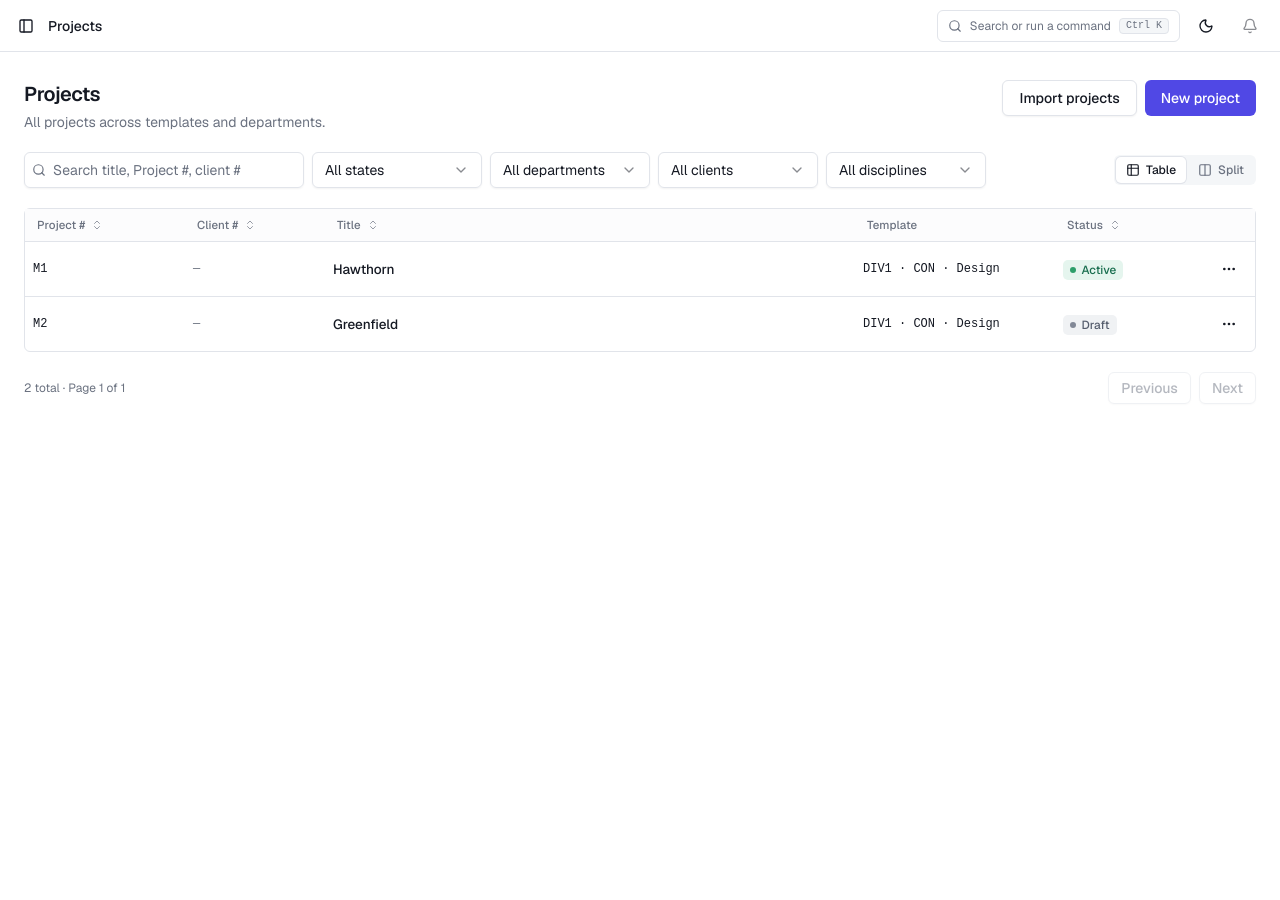
Test: ProjectsListPage › Split layout shows peek panel for the selected project
Expected: the text "Hawthorn" is shown, 325,242 -> 855,297
Click the tab "Split": [1221, 170] box 1188,157 -> 1254,183
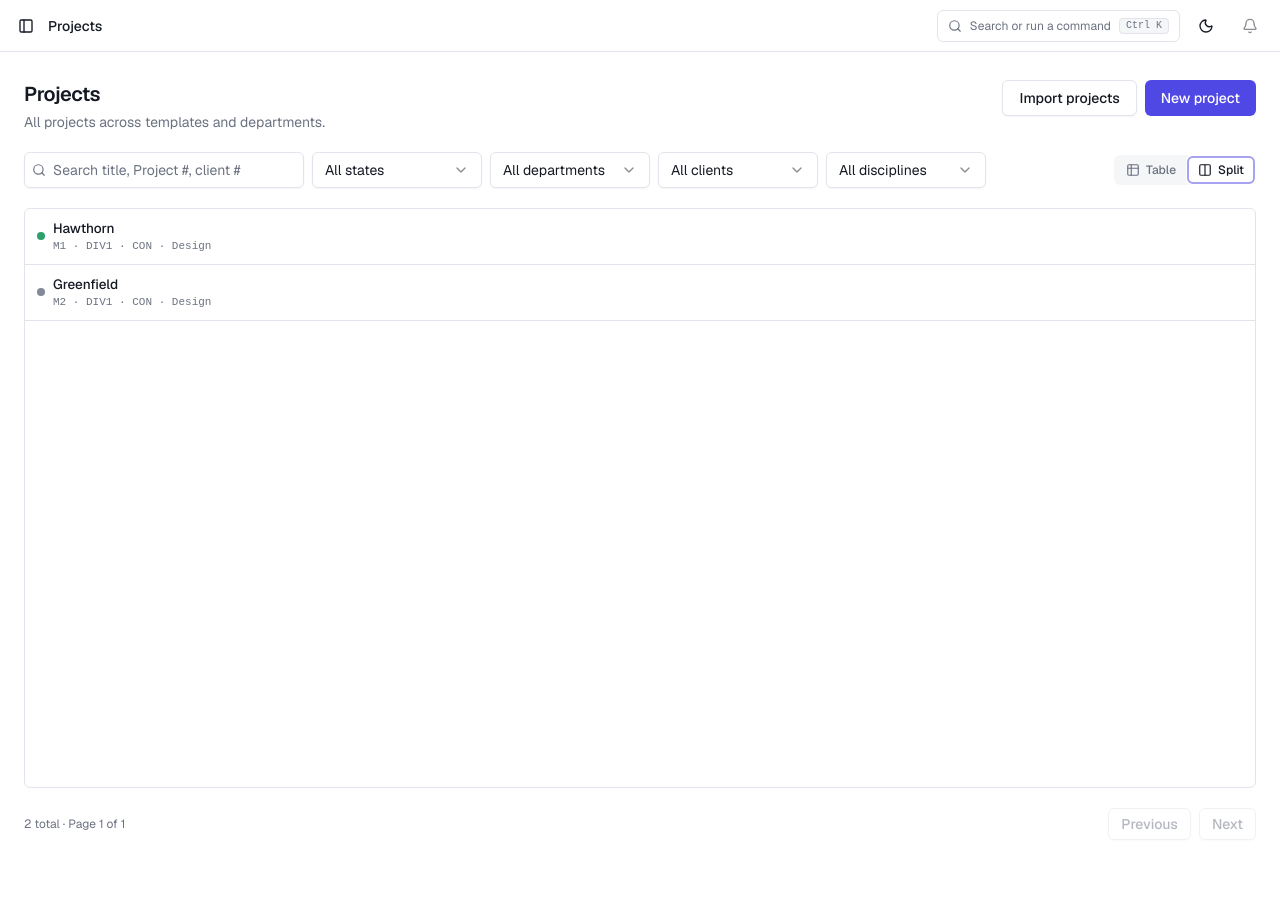
// Click on Hawthorn in the left rail.
Click the button "Hawthorn M1 · DIV1 · CON · Design": [84, 228] box 25,209 -> 1255,265
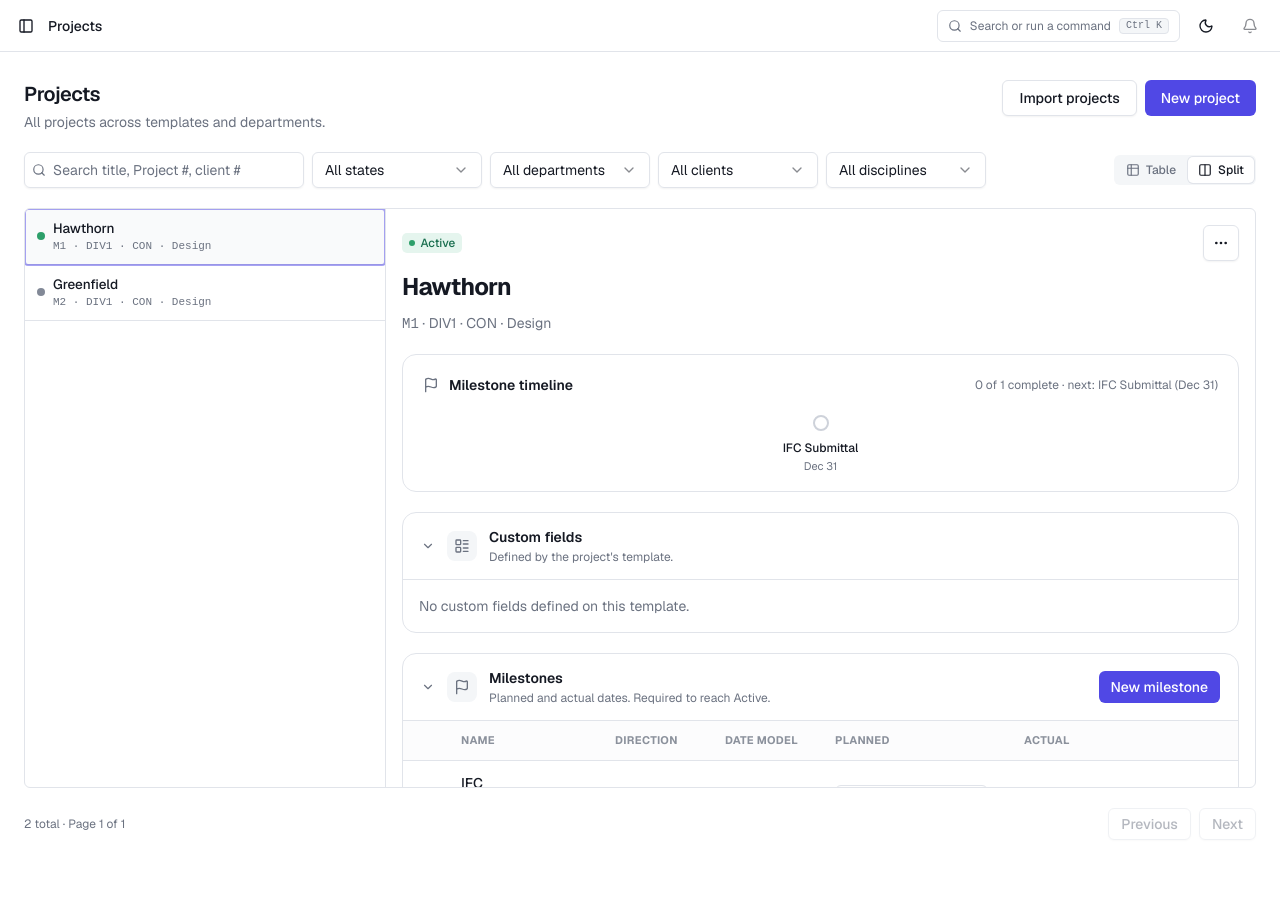
Expected: the heading "Custom fields" is shown, 489,526 -> 582,546
Expected: the text "IFC Submittal" is shown, 783,441 -> 858,456
